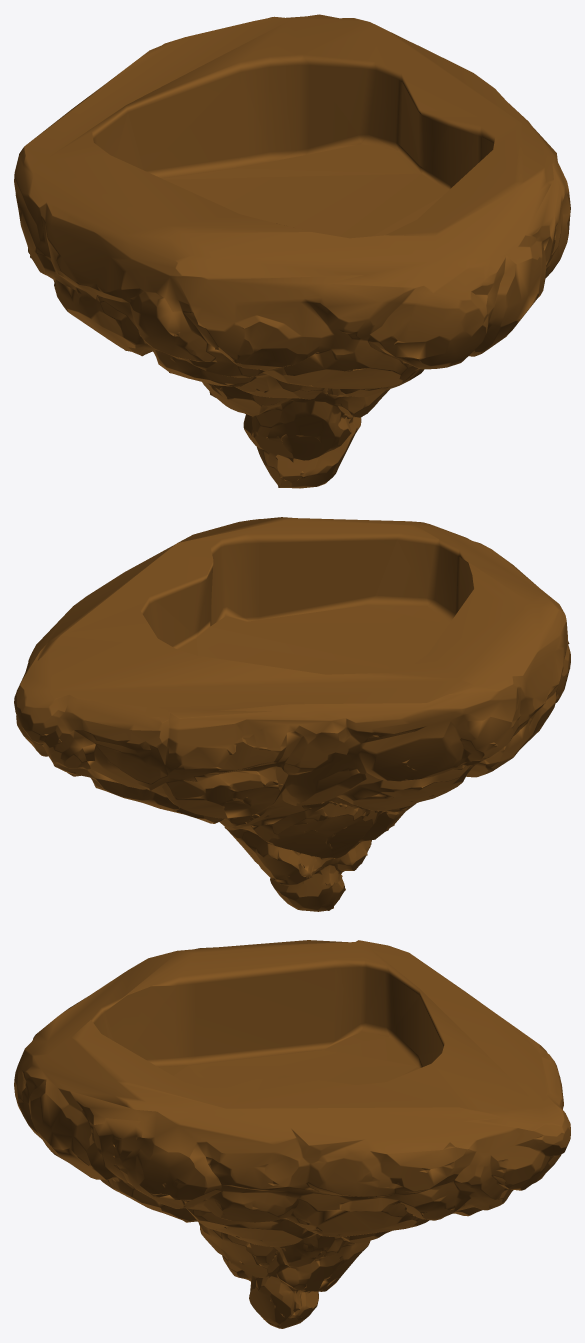
Rendered from Island1.fbx.
3 views of the same model, one above another, from view 1: azimuth 30°, elevation 25°; view 2: azimuth 150°, elevation 25°; view 3: azimuth 270°, elevation 25° (orthographic). The views are drawn at different scales.
Visible parts, largest first — view 1: Island 1; view 2: Island 1; view 3: Island 1.
Boxes of the visible parts, x1,y1,x2,y2 form: Island 1: (14, 14, 570, 488); Island 1: (14, 517, 570, 911); Island 1: (14, 940, 570, 1328).
Bounding box in the file's own units: 43.08 × 29.78 × 50.95.
